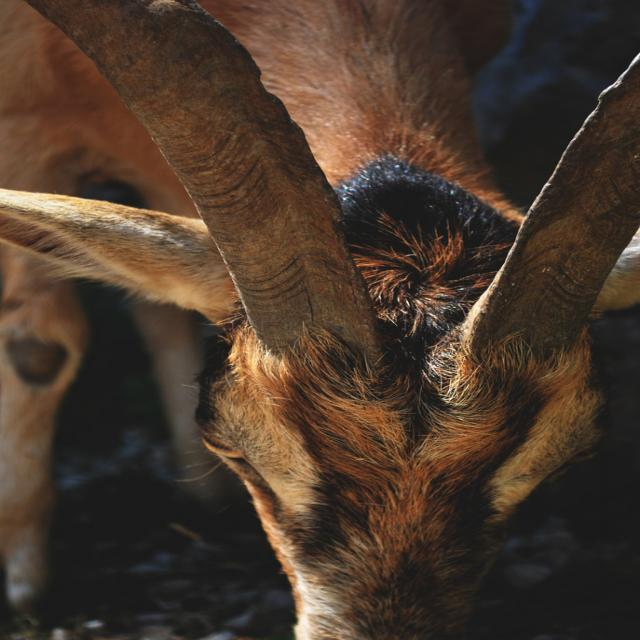Goat: (0, 2, 611, 639)
